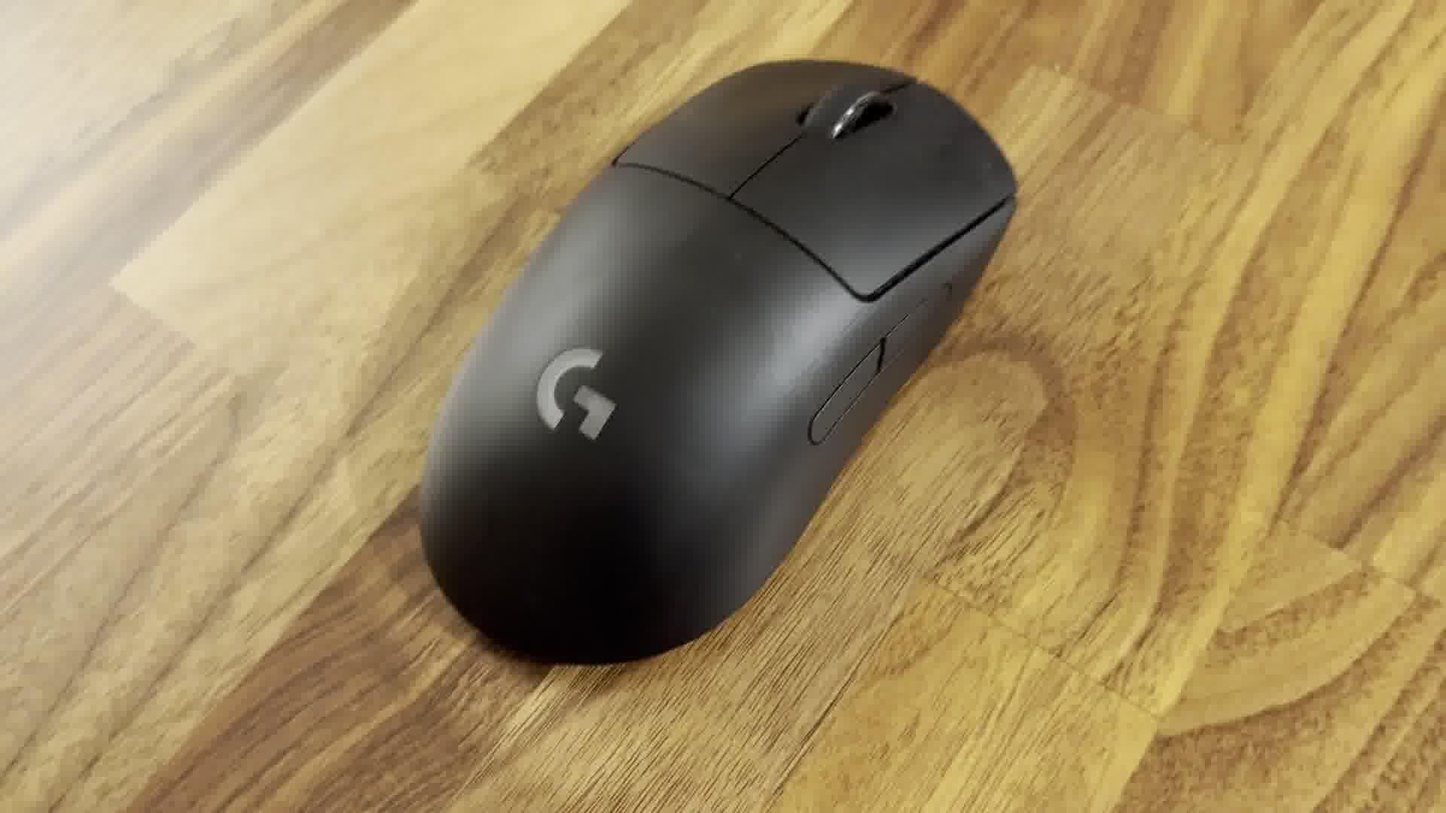mouse: (415, 42, 1022, 668)
